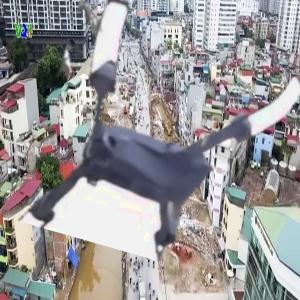drone: (46, 6, 300, 261)
